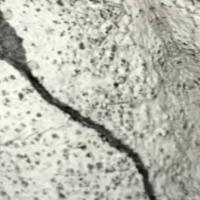crack: (2, 3, 165, 199)
